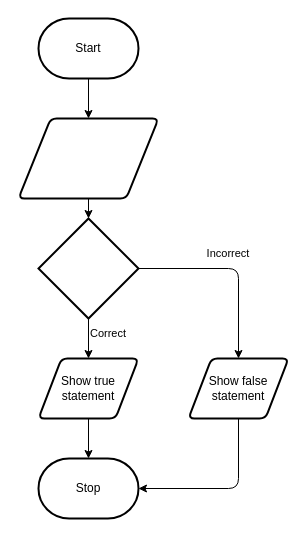
This 306x536 diagram has some shape labels left out. Here are the shapes that lost their labels. From the top down, the centre of each, then its label:
At pixel 88 158: "Ask user to give random number between 1 and 6".
At pixel 88 268: "User guesses number".
